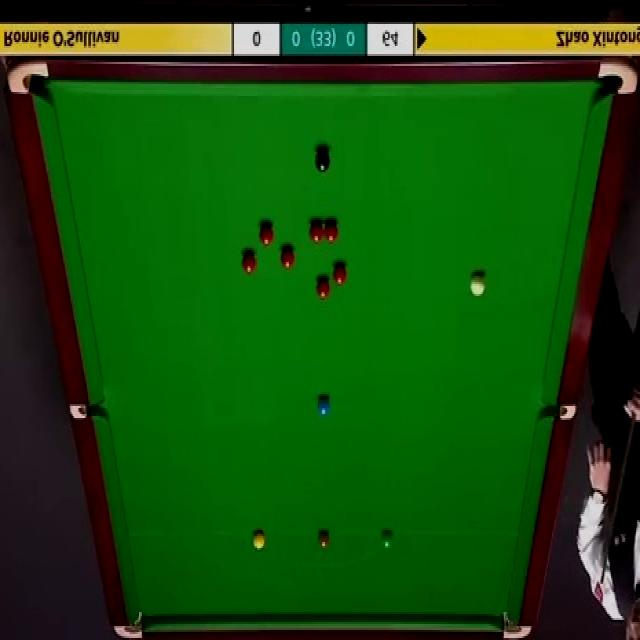black-ball: (315, 147, 331, 173)
blue-ball: (317, 398, 330, 416)
brown-ball: (317, 531, 330, 548)
green-ball: (382, 531, 395, 551)
red-ball: (259, 224, 274, 248), (324, 219, 338, 244), (310, 220, 324, 244), (280, 248, 294, 271), (333, 264, 348, 285), (242, 254, 257, 275), (317, 277, 331, 298)
white-ball: (471, 273, 486, 296)
yellow-ball: (251, 530, 266, 550)
